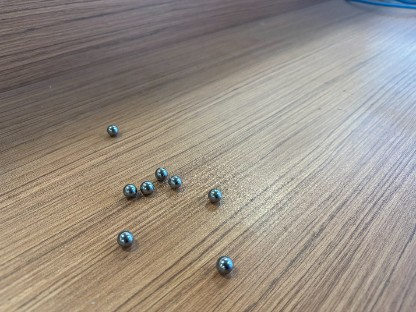ironball: (216, 256, 233, 274), (117, 230, 133, 247), (208, 188, 221, 202), (154, 167, 168, 180), (123, 183, 136, 197), (140, 181, 153, 194), (168, 175, 181, 188), (106, 125, 118, 136)
